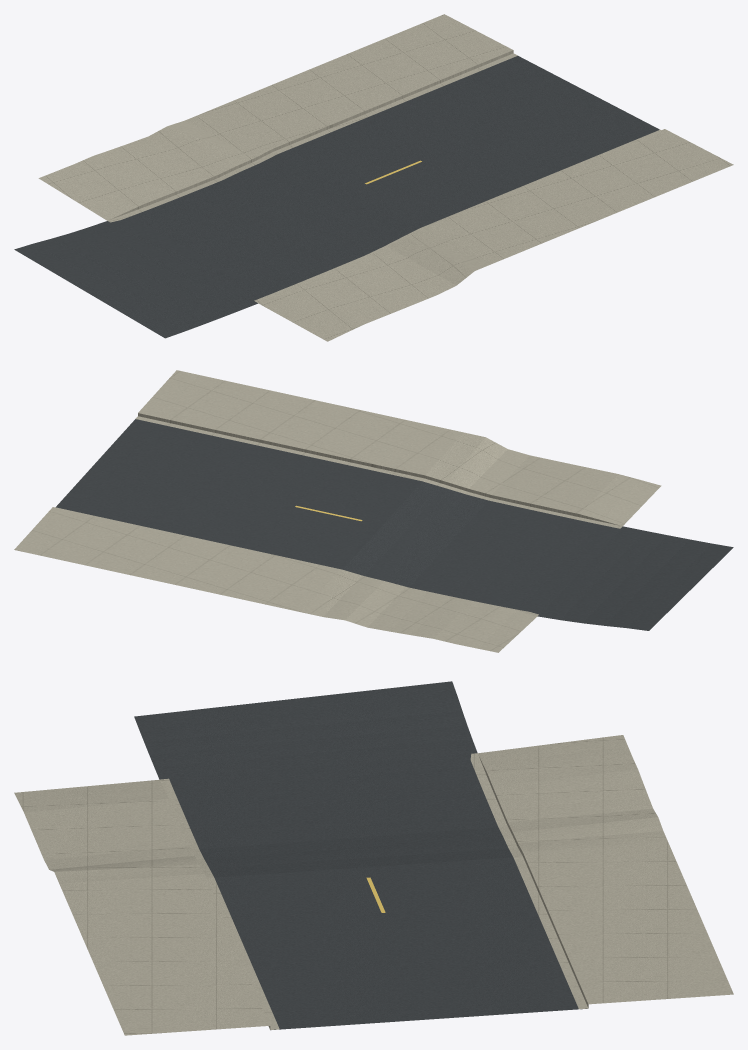
3 views of the same model, one above another, from view 1: azimuth 30°, elevation 25°; view 2: azimuth 150°, elevation 25°; view 3: azimuth 270°, elevation 25° (orthographic). The views are drawn at different scales.
Parts seen in each view (by area): view 1: Carriageway, Clipped sidewalks with lowered crossing approaches, Concrete drainage margins, Raised curb faces; view 2: Carriageway, Clipped sidewalks with lowered crossing approaches, Concrete drainage margins, Raised curb faces; view 3: Carriageway, Clipped sidewalks with lowered crossing approaches, Concrete drainage margins, Raised curb faces.
Boxes of the visible parts, <box> form: Carriageway: <box>14,56,659,338</box>; Clipped sidewalks with lowered crossing approaches: <box>38,14,733,341</box>; Concrete drainage margins: <box>107,53,660,303</box>; Raised curb faces: <box>110,50,513,219</box>; Carriageway: <box>56,419,733,630</box>; Clipped sidewalks with lowered crossing approaches: <box>14,370,661,652</box>; Concrete drainage margins: <box>55,416,622,616</box>; Raised curb faces: <box>138,413,619,525</box>; Carriageway: <box>134,681,587,1030</box>; Clipped sidewalks with lowered crossing approaches: <box>14,735,733,1035</box>; Concrete drainage margins: <box>160,753,588,1029</box>; Raised curb faces: <box>268,757,588,1029</box>.
Size of the model in its own units: 28.78 by 1.76 by 22.34.
